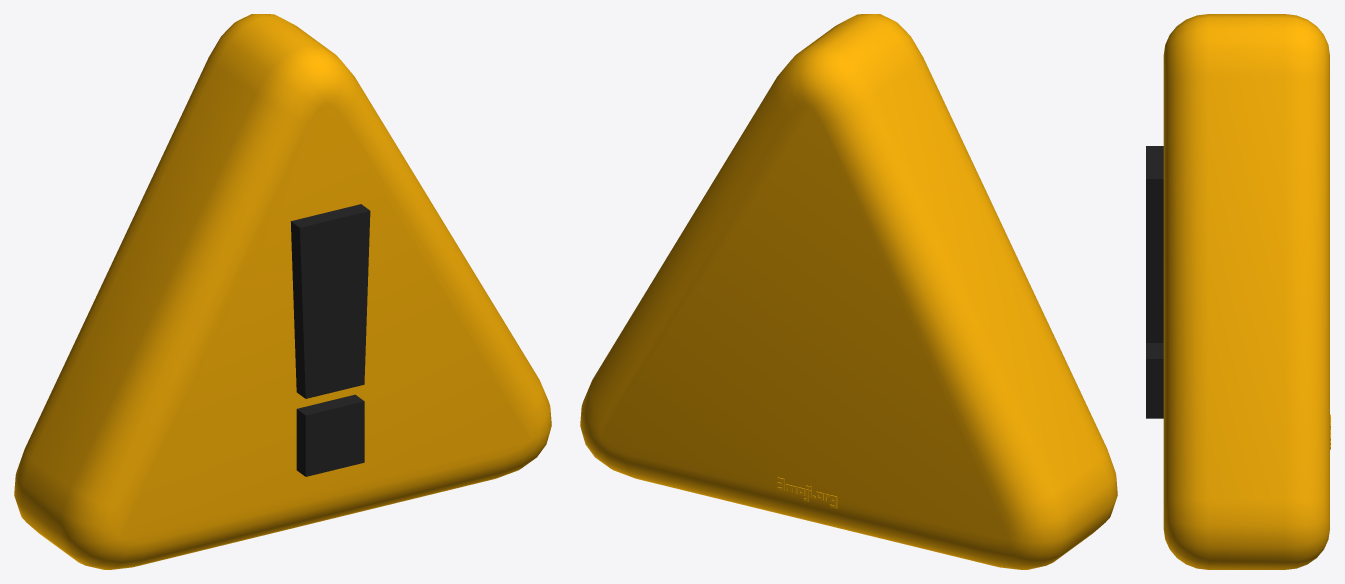
File: warning.glb
The picture shows the model from 3 angles, left to right: view 1: azimuth 30°, elevation 25°; view 2: azimuth 150°, elevation 25°; view 3: azimuth 270°, elevation 25°; orthographic projection. The views are drawn at different scales.
Visible parts, largest first — view 1: Cube.314; view 2: Cube.314; view 3: Cube.314.
Boxes of the visible parts, <box> form: Cube.314: <box>14,14,551,569</box>; Cube.314: <box>580,14,1117,569</box>; Cube.314: <box>1146,14,1330,569</box>.
Bounding box in the file's own units: 2.15 × 2 × 0.7337.
1 material, 1 textured.
